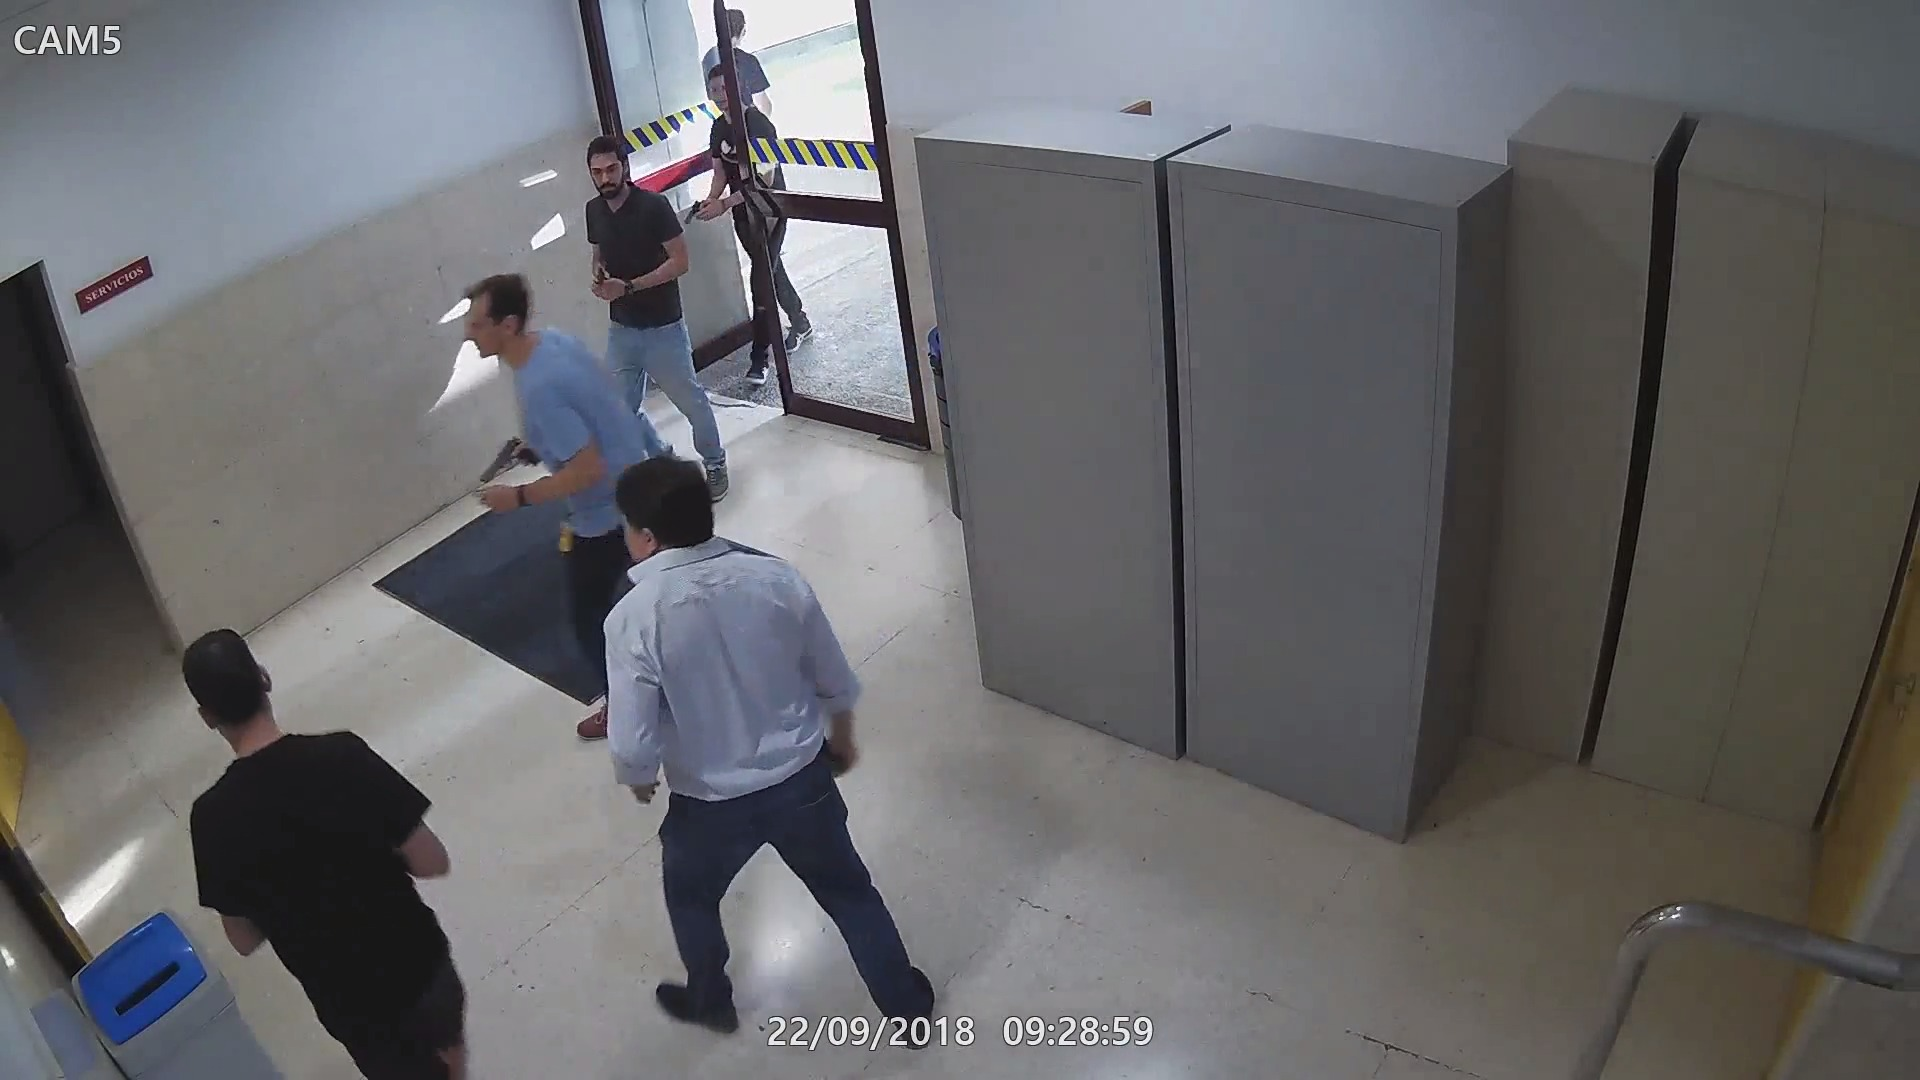Handgun: (476, 436, 539, 485), (591, 261, 622, 305), (682, 195, 720, 227)
